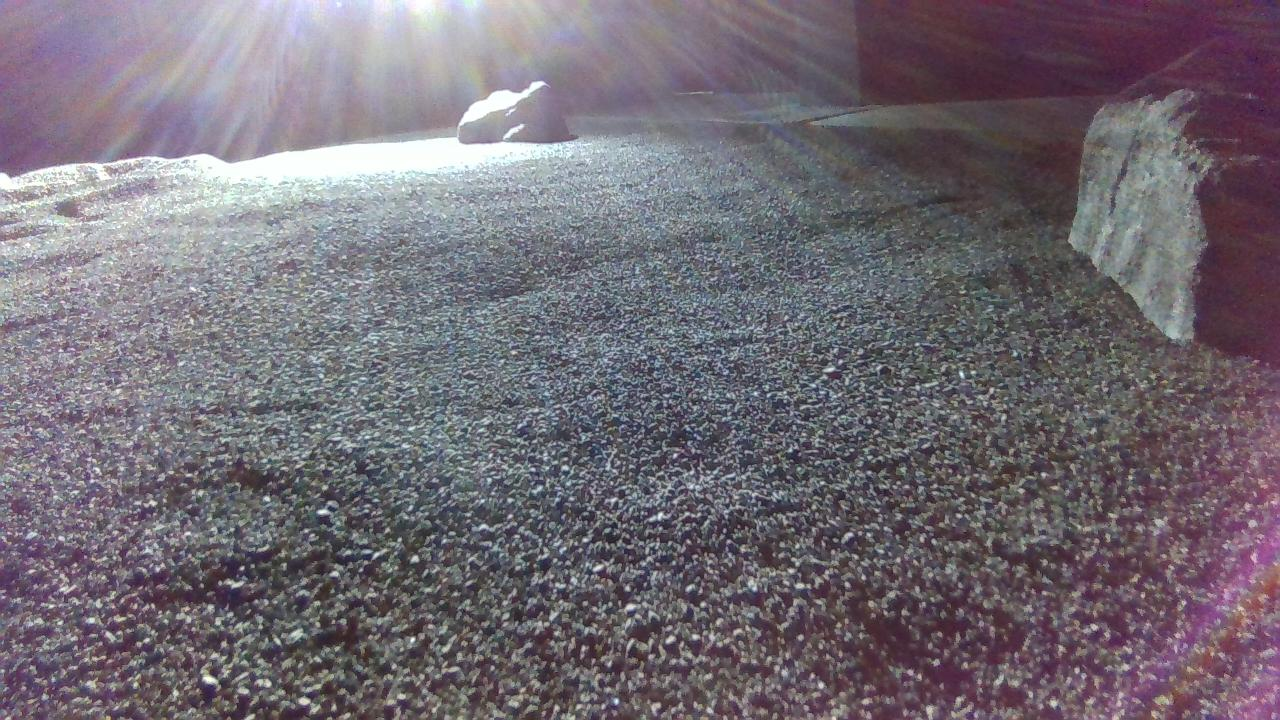rock: (1076, 33, 1280, 374), (457, 79, 575, 142)
